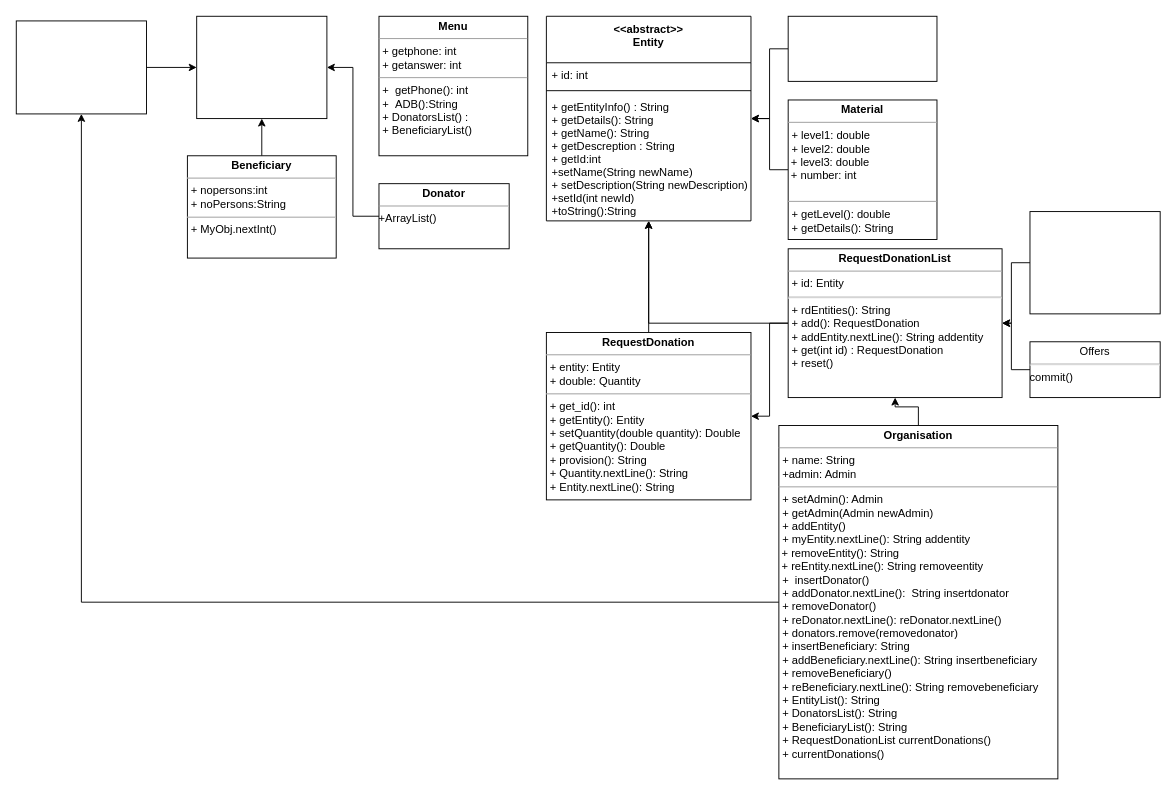
The diagram is 1176 pixels wide and 795 high, and some of its shapes have lost their labels. Each missing label, with the box of its shape:
<<abstract>> User +name:String +phone:String: (196, 15, 327, 119)
Admin +isAdmin:boolean: (15, 20, 146, 114)
Requests add() modify() validRequestDonation commit(): (1029, 211, 1160, 314)
Service +getDetails(): String: (787, 15, 937, 81)
